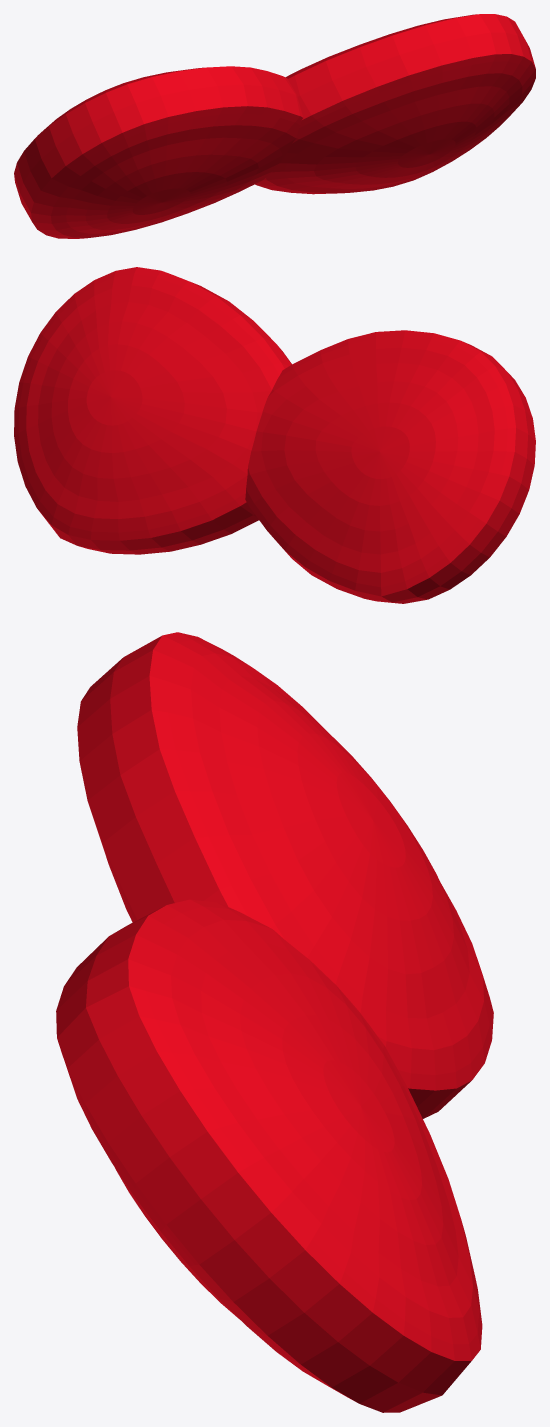
File: funda.fbx
3 renders of one model, top to bottom at view 1: azimuth 30°, elevation 25°; view 2: azimuth 150°, elevation 25°; view 3: azimuth 270°, elevation 25°, orthographic. The views are drawn at different scales.
Parts seen in each view (by area): view 1: Sphere; view 2: Sphere; view 3: Sphere.
Boxes of the visible parts, x1,y1,x2,y2 form: Sphere: (14,14,535,238); Sphere: (14,267,535,603); Sphere: (56,632,493,1412).
Size of the model in its own units: 82.42 by 37.36 by 32.27.
